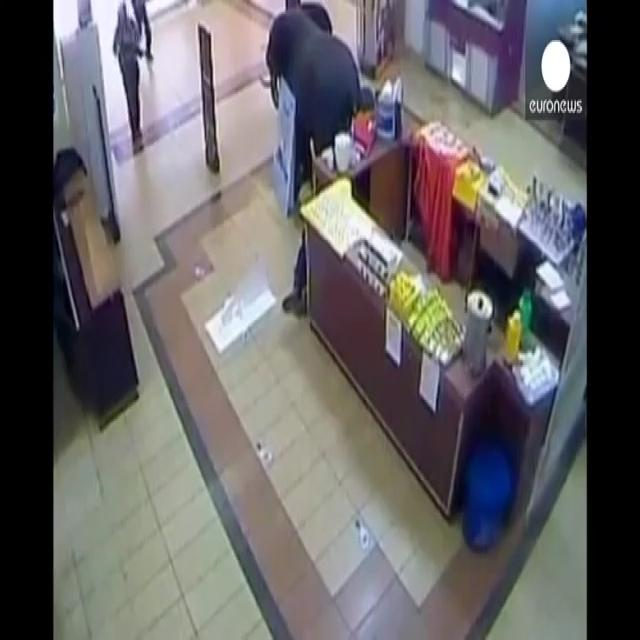Weapon: (105, 32, 176, 102)
